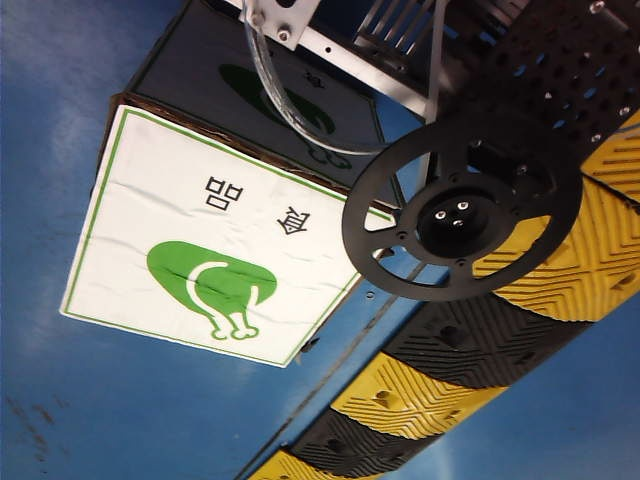Cube_food: (123, 164, 335, 346)
